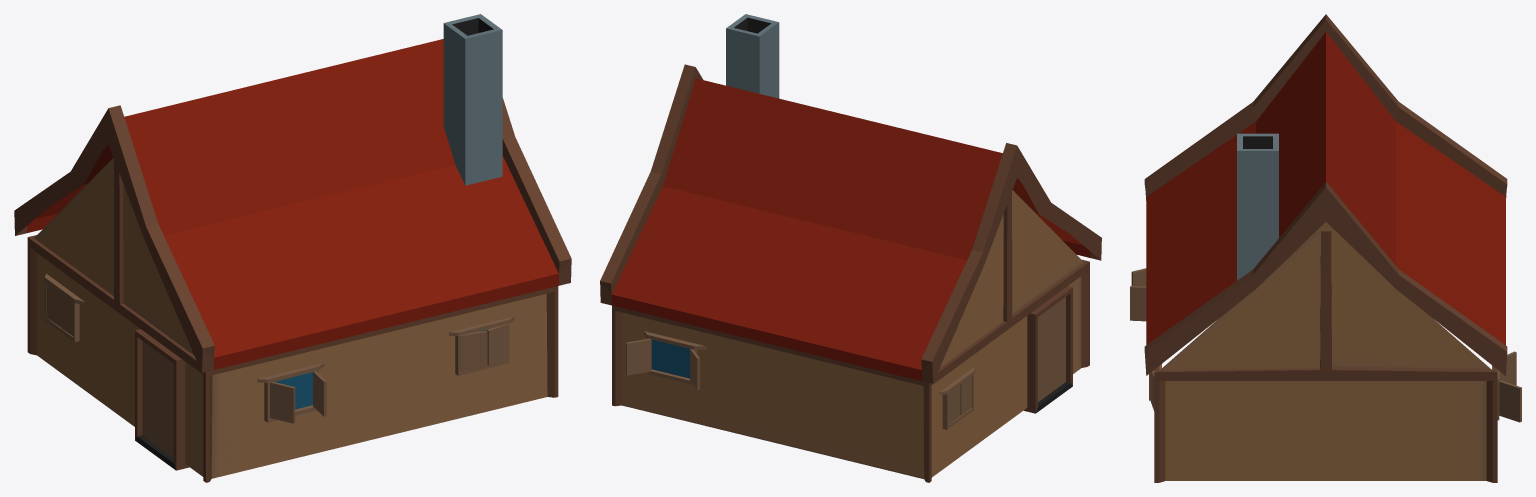
Rendered from House1.fbx.
The picture shows the model from 3 angles, left to right: view 1: azimuth 30°, elevation 25°; view 2: azimuth 150°, elevation 25°; view 3: azimuth 270°, elevation 25°; orthographic projection. The views are drawn at different scales.
Parts seen in each view (by area): view 1: Cube.012; view 2: Cube.012; view 3: Cube.012.
Boxes of the visible parts, left/top/right/bottom form: Cube.012: left=14, top=14, right=571, bottom=482; Cube.012: left=600, top=14, right=1101, bottom=482; Cube.012: left=1130, top=14, right=1521, bottom=482.
Bounding box in the file's own units: 911 × 809 × 871.
